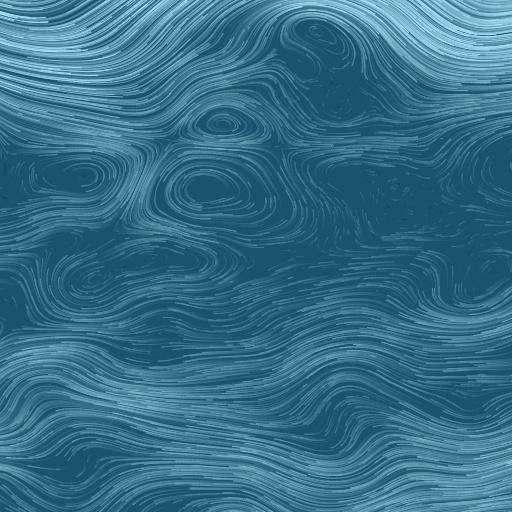eddy: (51, 237, 215, 314), (151, 151, 278, 228), (176, 101, 272, 147), (25, 154, 118, 199), (282, 13, 355, 61)
